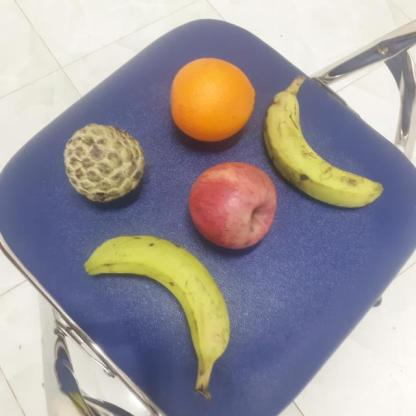annona: (62, 122, 149, 205)
apple: (184, 159, 278, 250)
banana: (80, 232, 234, 372), (265, 88, 386, 211)
orange: (167, 55, 257, 144)
